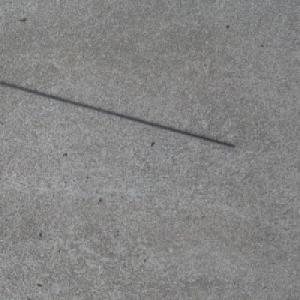LuggagePart: (0, 80, 236, 148)
